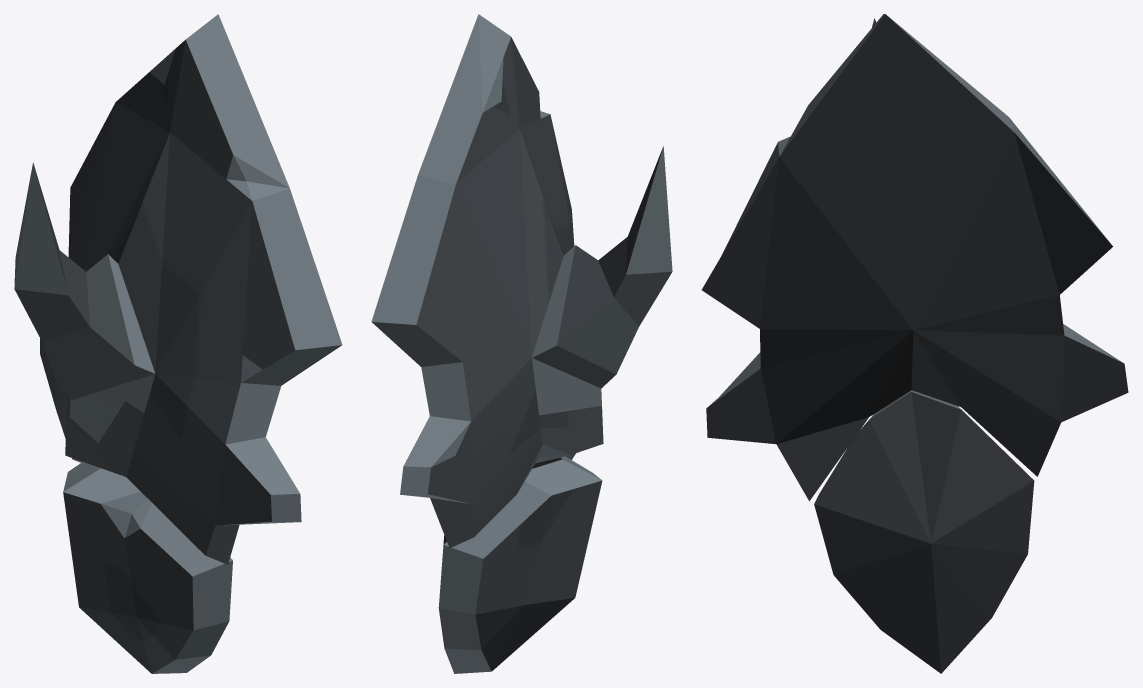
File: SM_Chr_Attach_Armour_Dark_Leg_FR_Medium_01.fbx
The picture shows the model from 3 angles, left to right: view 1: azimuth 30°, elevation 25°; view 2: azimuth 150°, elevation 25°; view 3: azimuth 270°, elevation 25°; orthographic projection. The views are drawn at different scales.
Visible parts, largest first — view 1: SM_Chr_Attach_Armour_Dark_Leg_FR_Medium_01; view 2: SM_Chr_Attach_Armour_Dark_Leg_FR_Medium_01; view 3: SM_Chr_Attach_Armour_Dark_Leg_FR_Medium_01.
Part boxes in pixels (x1,y1,x2,y2): SM_Chr_Attach_Armour_Dark_Leg_FR_Medium_01: (14, 14, 342, 673); SM_Chr_Attach_Armour_Dark_Leg_FR_Medium_01: (371, 14, 672, 673); SM_Chr_Attach_Armour_Dark_Leg_FR_Medium_01: (701, 14, 1128, 673).
Bounding box in the file's own units: 10.99 × 30.41 × 17.79.
